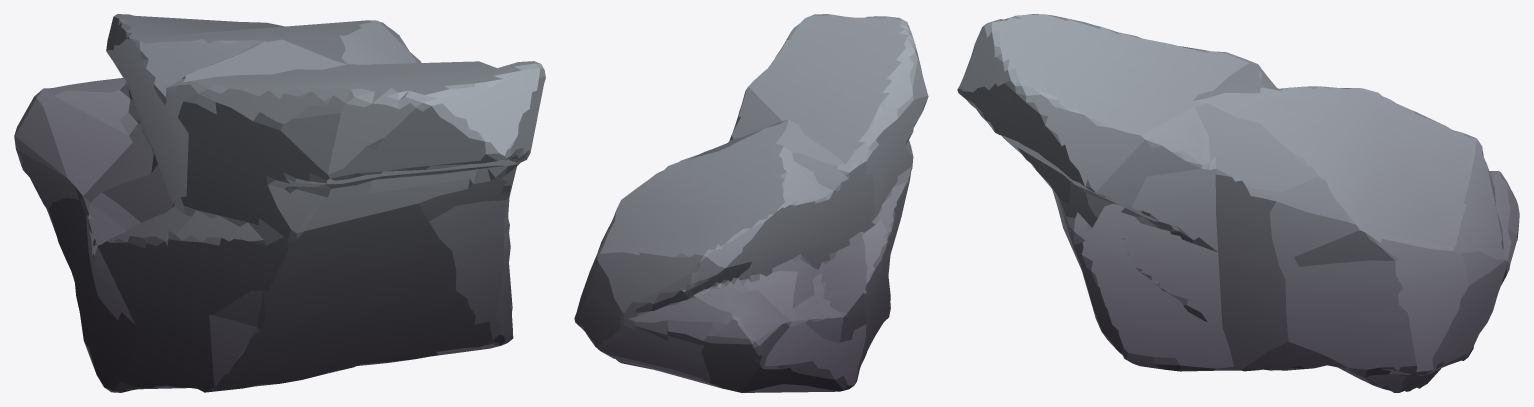
File: rock_4_02.fbx
3 renders of one model, left to right at view 1: azimuth 30°, elevation 25°; view 2: azimuth 150°, elevation 25°; view 3: azimuth 270°, elevation 25°, orthographic. The views are drawn at different scales.
Visible parts, largest first — view 1: rock_4_02; view 2: rock_4_02; view 3: rock_4_02.
Part boxes in pixels (x1=…): rock_4_02: x1=14, y1=14, x2=545, y2=392; rock_4_02: x1=574, y1=14, x2=928, y2=392; rock_4_02: x1=957, y1=14, x2=1519, y2=392.
Bounding box in the file's own units: 310 × 320 × 504.
